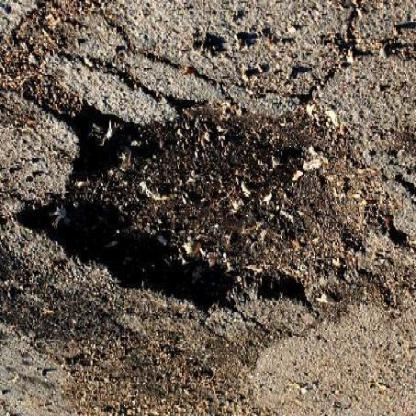pothole: (15, 100, 404, 317)
